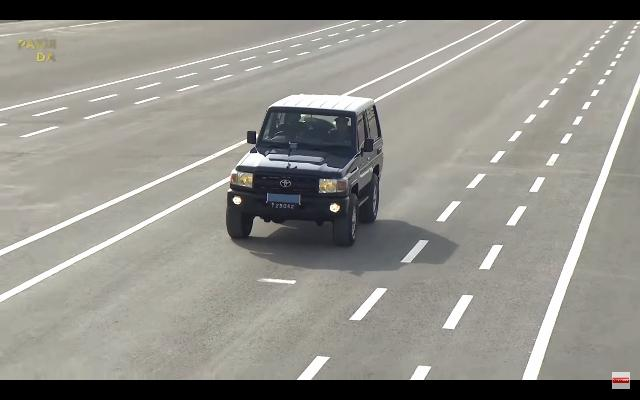plate: (271, 202, 295, 210)
